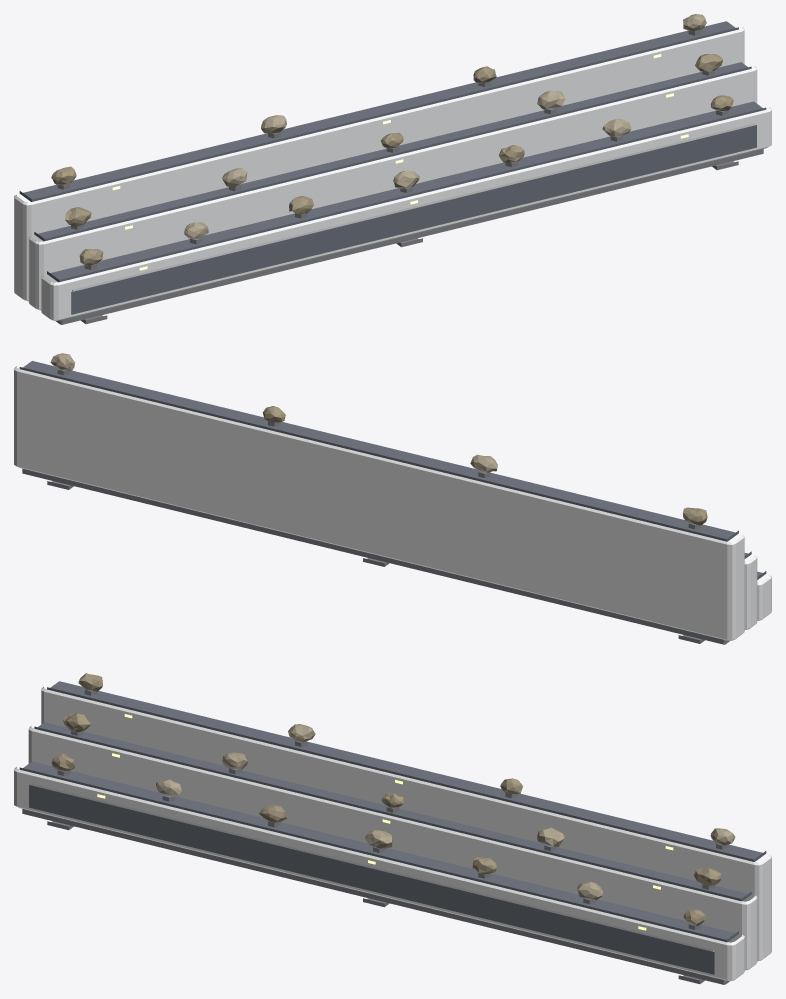
The model's file is ext_ts4_dead_foliage_01.glb.
3 renders of one model, top to bottom at view 1: azimuth 30°, elevation 25°; view 2: azimuth 150°, elevation 25°; view 3: azimuth 330°, elevation 25°, orthographic.
Visible parts, largest first — view 1: Tiers, Tier_Lids, Reservoir, Base_Frame, Foliage, Foliage_Light, Reservoir_Seal, Net_Cup_Clips; view 2: Tiers, Tier_Lids, Base_Frame, Foliage_Light, Foliage; view 3: Tiers, Tier_Lids, Reservoir, Base_Frame, Foliage, Foliage_Light, Reservoir_Seal, Net_Cup_Clips.
Part boxes in pixels (x1=…): Tiers: x1=14, y1=26, x2=771, y2=320; Tier_Lids: x1=19, y1=21, x2=766, y2=282; Reservoir: x1=71, y1=125, x2=756, y2=314; Base_Frame: x1=56, y1=149, x2=763, y2=324; Foliage: x1=51, y1=54, x2=733, y2=266; Foliage_Light: x1=184, y1=14, x2=706, y2=238; Reservoir_Seal: x1=72, y1=123, x2=755, y2=291; Net_Cup_Clips: x1=57, y1=30, x2=728, y2=269; Tiers: x1=14, y1=366, x2=771, y2=640; Tier_Lids: x1=19, y1=361, x2=766, y2=579; Base_Frame: x1=22, y1=468, x2=730, y2=644; Foliage_Light: x1=50, y1=353, x2=497, y2=473; Foliage: x1=262, y1=406, x2=707, y2=525; Tiers: x1=14, y1=686, x2=771, y2=980; Tier_Lids: x1=19, y1=681, x2=766, y2=942; Reservoir: x1=29, y1=785, x2=714, y2=974; Base_Frame: x1=22, y1=809, x2=729, y2=984; Foliage: x1=51, y1=673, x2=721, y2=926; Foliage_Light: x1=156, y1=724, x2=735, y2=900; Reservoir_Seal: x1=30, y1=783, x2=713, y2=951; Net_Cup_Clips: x1=57, y1=690, x2=728, y2=929.
Size of the model in its own units: 4 by 0.6859 by 0.406.
